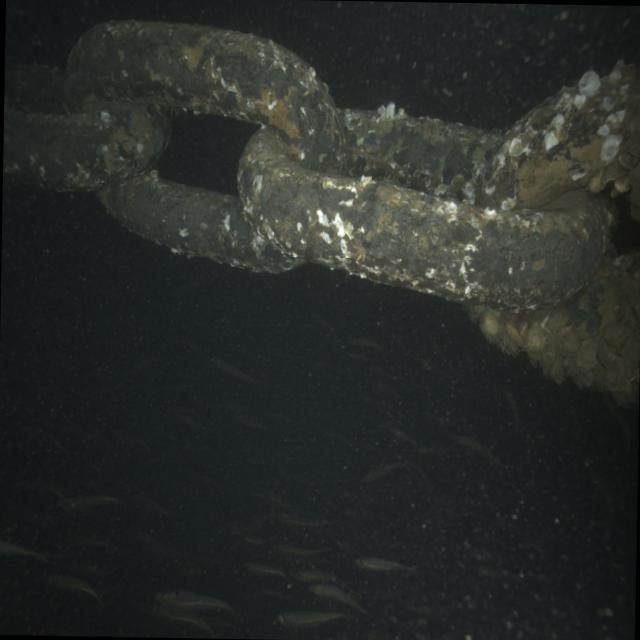ChainLink: (237, 104, 608, 310), (65, 22, 343, 165), (477, 61, 640, 221), (471, 252, 640, 404), (3, 65, 166, 190), (97, 171, 297, 270)
